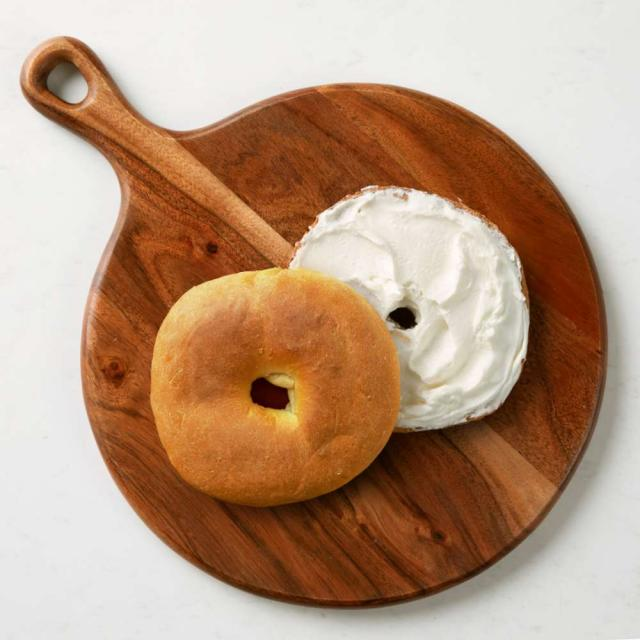Bagel: (151, 268, 400, 506)
